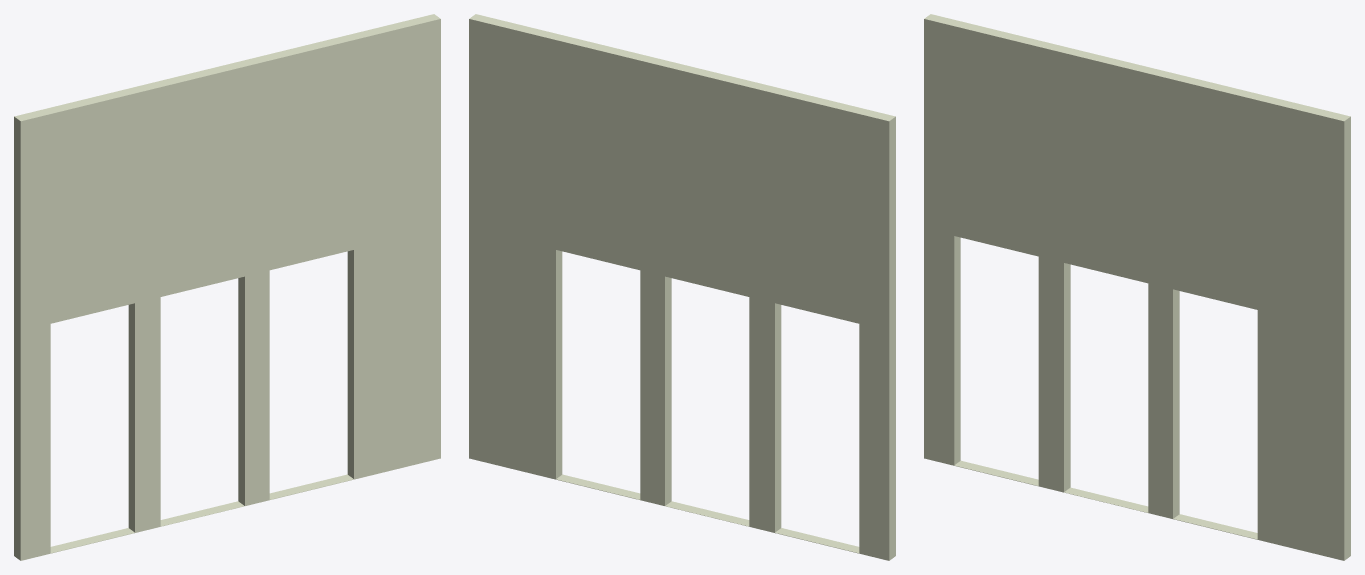
File: wall1.fbx
The picture shows the model from 3 angles, left to right: view 1: azimuth 30°, elevation 25°; view 2: azimuth 150°, elevation 25°; view 3: azimuth 330°, elevation 25°; orthographic projection.
Parts seen in each view (by area): view 1: wall1; view 2: wall1; view 3: wall1.
Part boxes in pixels (x1,y1,x2,y2): wall1: [14, 14, 440, 560]; wall1: [469, 14, 895, 560]; wall1: [924, 14, 1350, 560].
Size of the model in its own units: 13.63 by 498 by 498.
